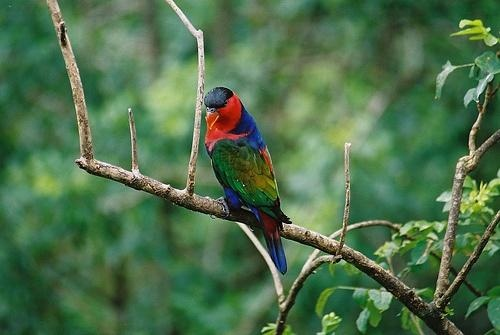bird: (203, 86, 295, 278)
